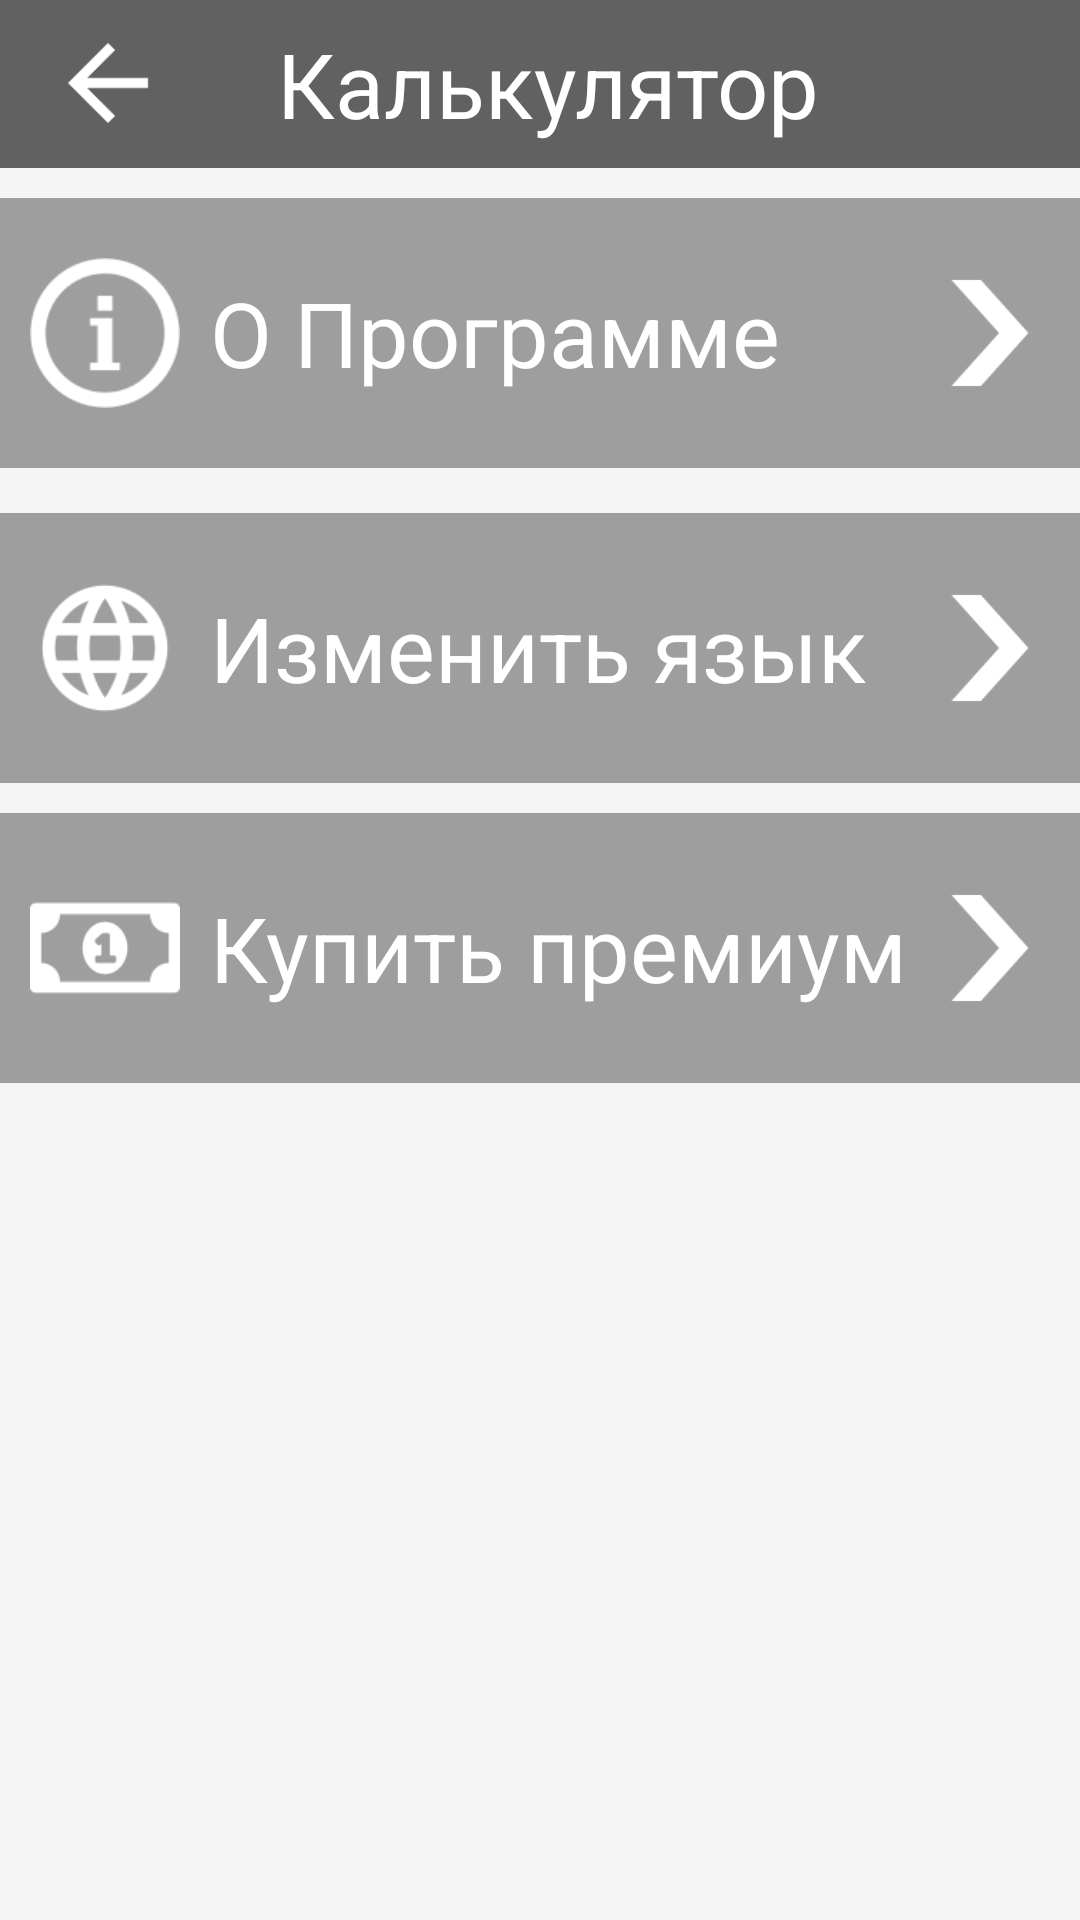

Screen size 1080w x 1920h. Icon name, then its box in pixels as (x1, y1, x2, y2):
arrow: (952, 280, 1028, 386), (952, 595, 1028, 701), (952, 895, 1028, 1001)
arrow back: (68, 43, 149, 123)
info: (30, 258, 180, 408)
language: (42, 585, 168, 711)
money: (30, 902, 180, 993)
